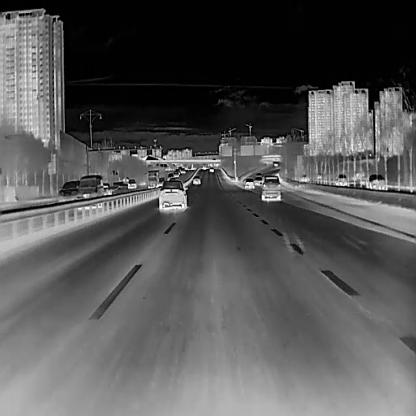car: (158, 180, 188, 209), (75, 174, 103, 197), (260, 175, 280, 200), (57, 180, 80, 196), (368, 173, 385, 189), (335, 173, 347, 185), (102, 182, 111, 194), (244, 178, 254, 188), (254, 174, 263, 185), (127, 178, 135, 188), (192, 174, 200, 184), (167, 172, 173, 180), (173, 171, 179, 177), (209, 166, 213, 171), (274, 162, 278, 166)
truck: (146, 169, 159, 188)
